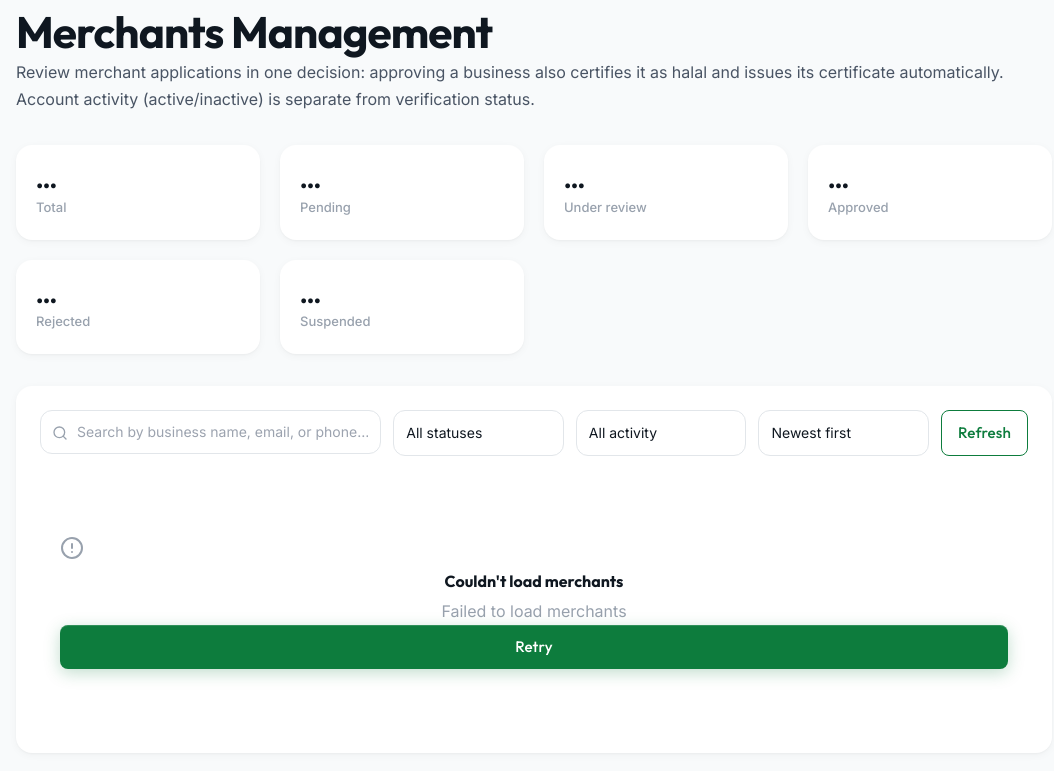
Scenario: AdminMerchants review workspace (one-approval rule) › shows an error with retry when loading fails
Expected: the element with test id "merchants-error" is shown, top-left (60, 536), bottom-right (1008, 669)
Click the button with test id "retry-merchants" at (534, 647), box top-left (60, 625), bottom-right (1008, 669)
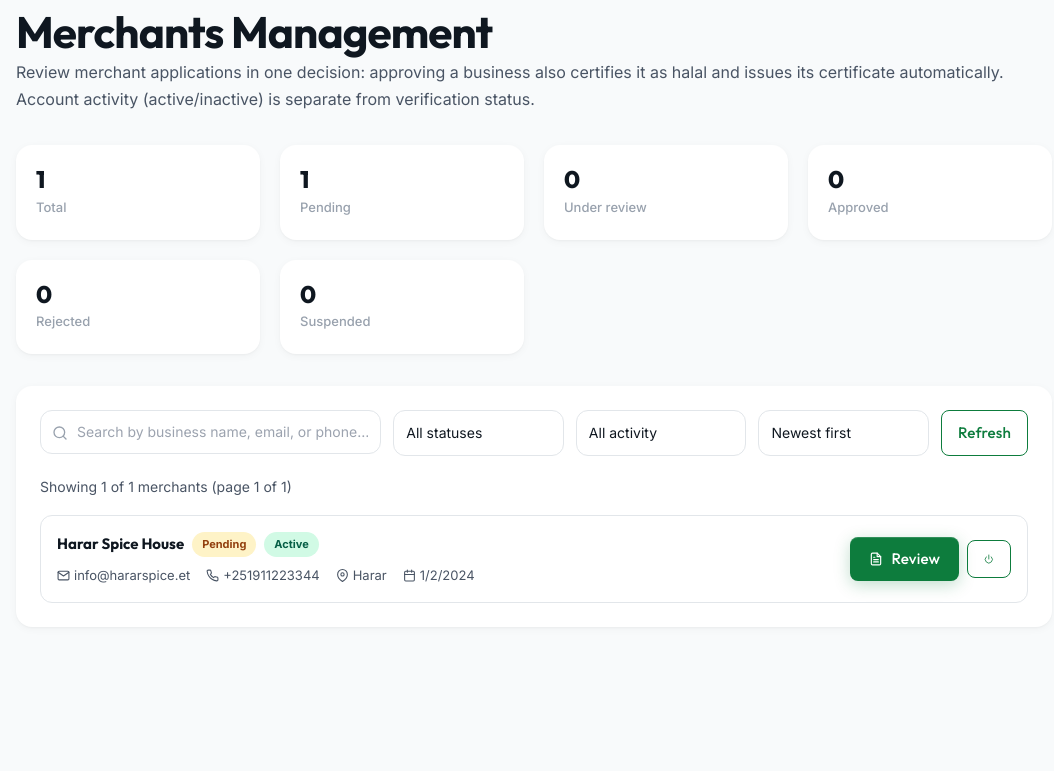
Result: the heading "Harar Spice House" is shown at top-left (57, 536), bottom-right (184, 554)
